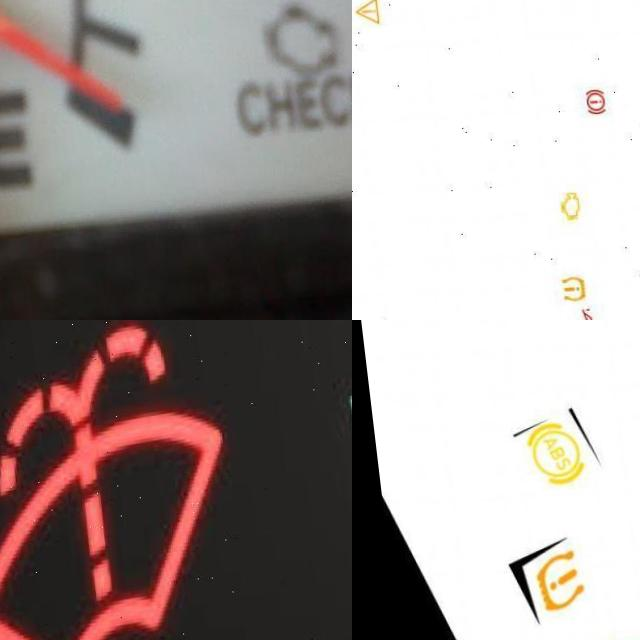Washer Fluid: (0, 326, 237, 640)
